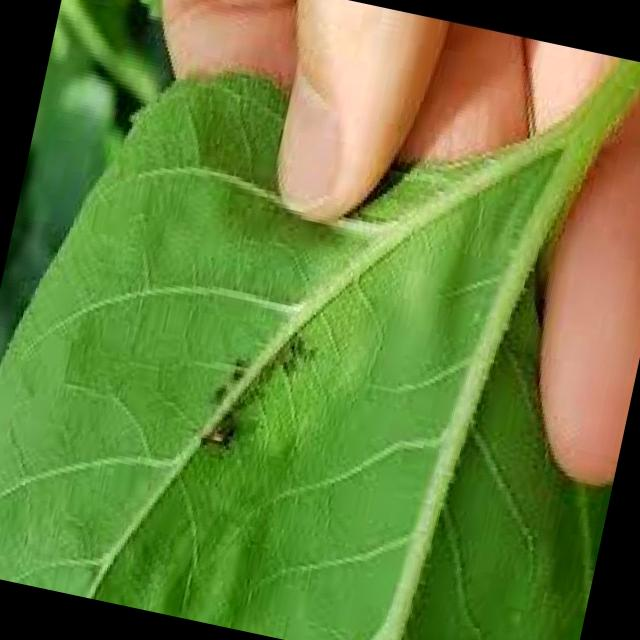aphid: (200, 369, 232, 408), (274, 349, 297, 380), (223, 356, 246, 384), (281, 329, 304, 356), (229, 346, 250, 367)
